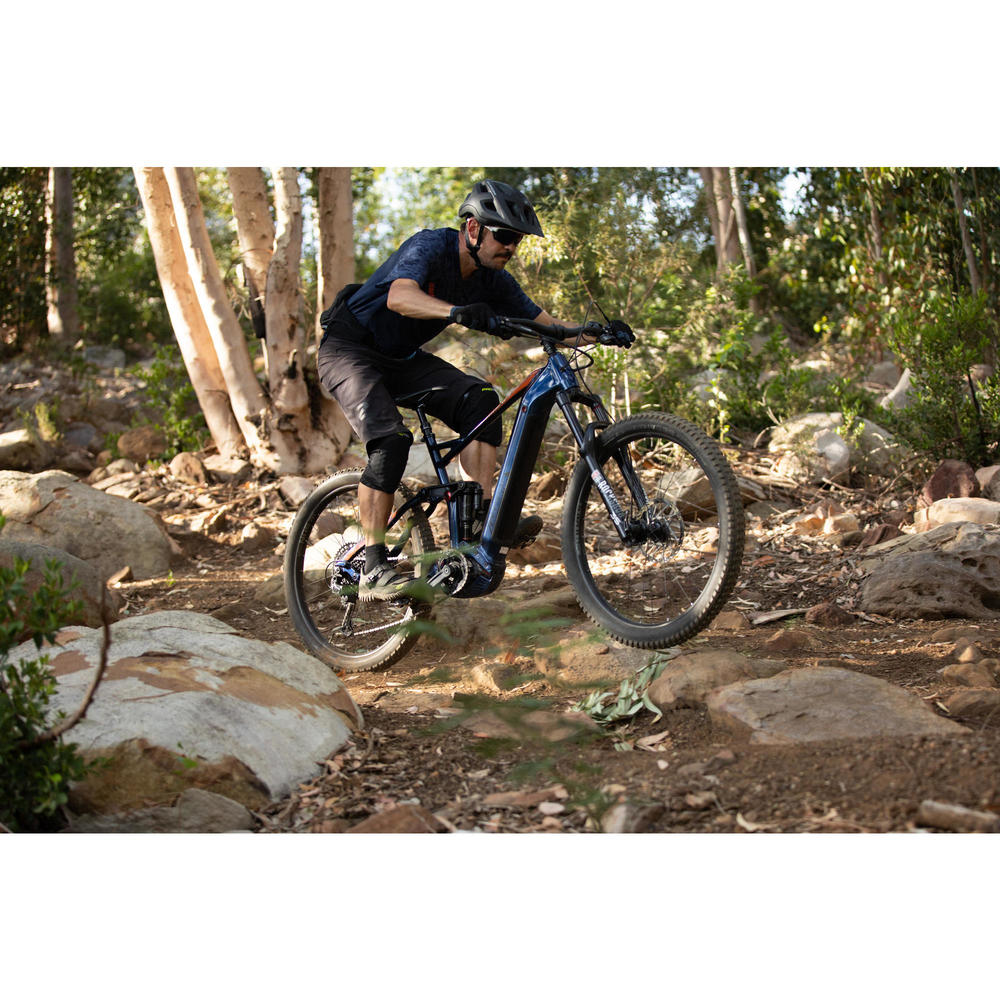MountainBike: (276, 302, 743, 668)
